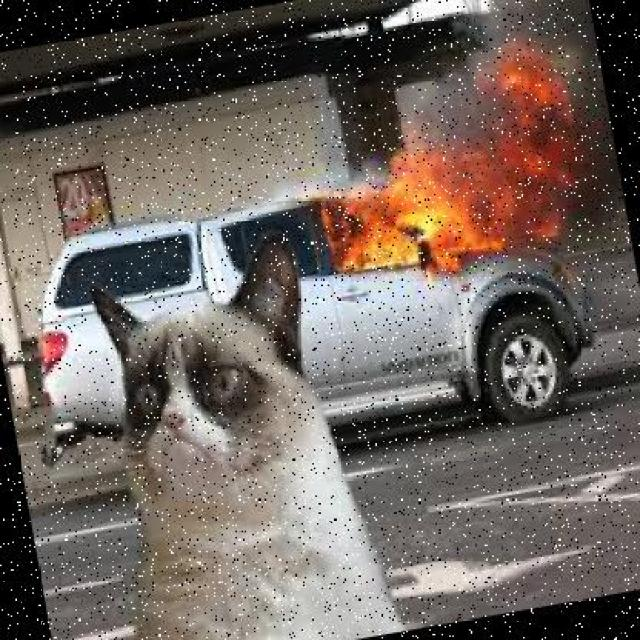fire: (300, 26, 600, 297)
